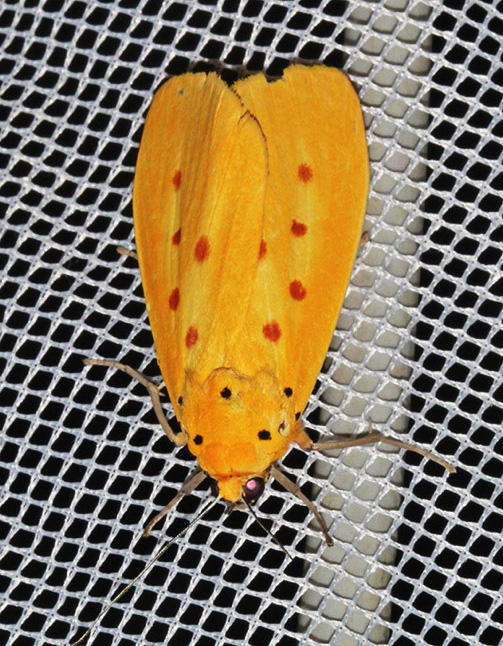Agape chloropyga: (69, 59, 459, 644)
moth: (71, 61, 461, 646)
